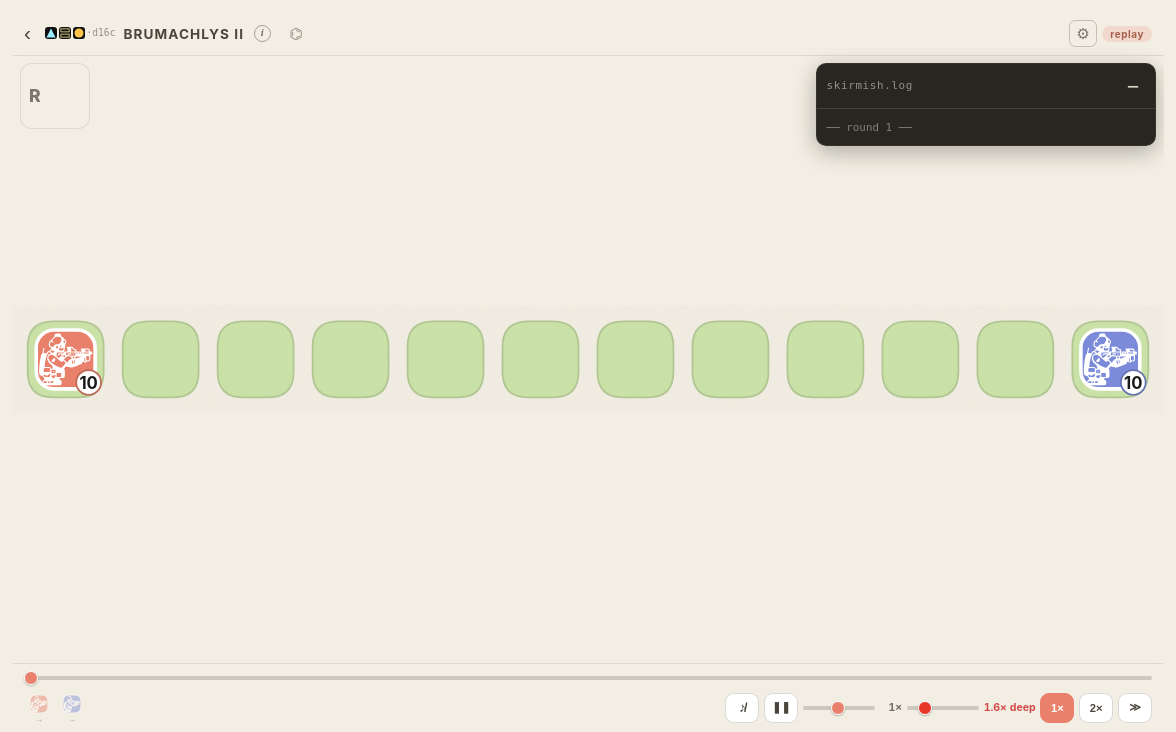
Test case: R7 App seek/scrub transport › skip still jumps to the final state (replay finishes)
The width and height of the screenshot is (1176, 732).
Click the button with class "replay-button" showing "≫": [1135, 708] box x1=1118 y1=693 x2=1152 y2=723
Wait 50 ms
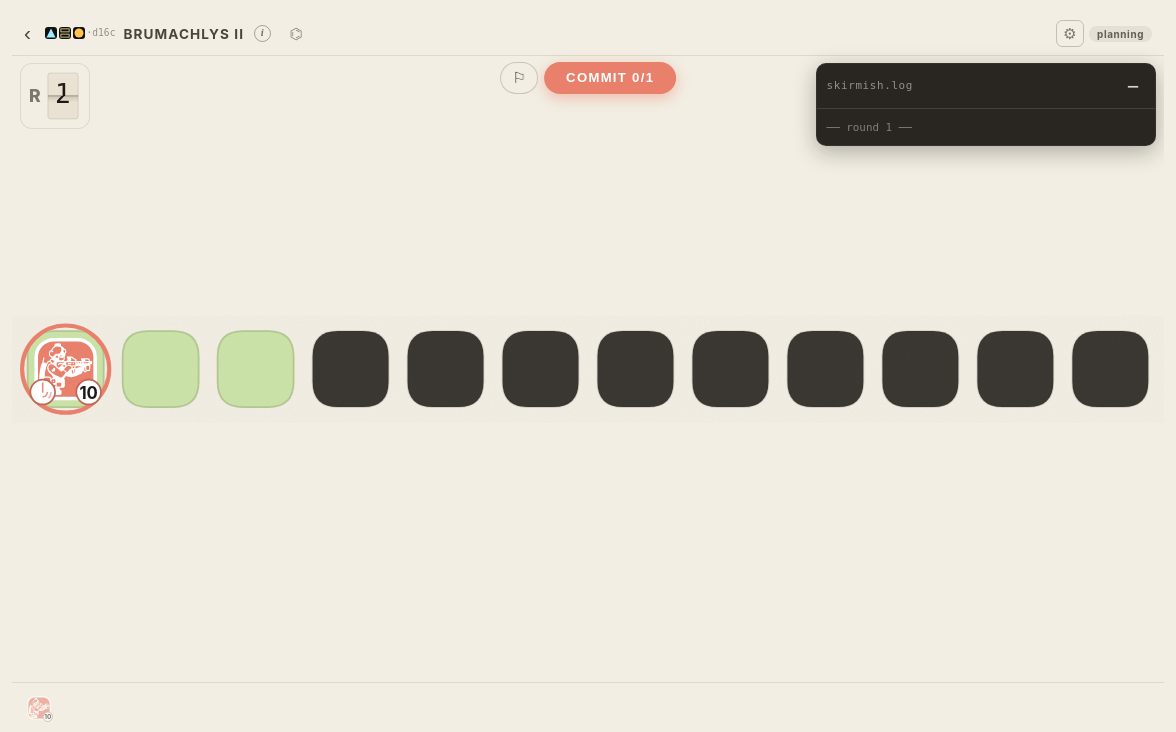
Expected: the text "planning" is shown, x1=1089 y1=26 x2=1152 y2=42
